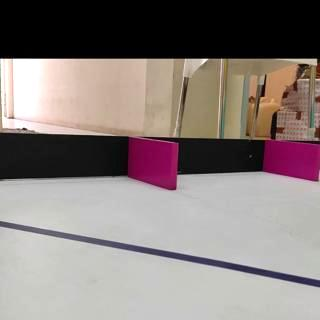xparking: (130, 140, 177, 188), (274, 143, 320, 180)
